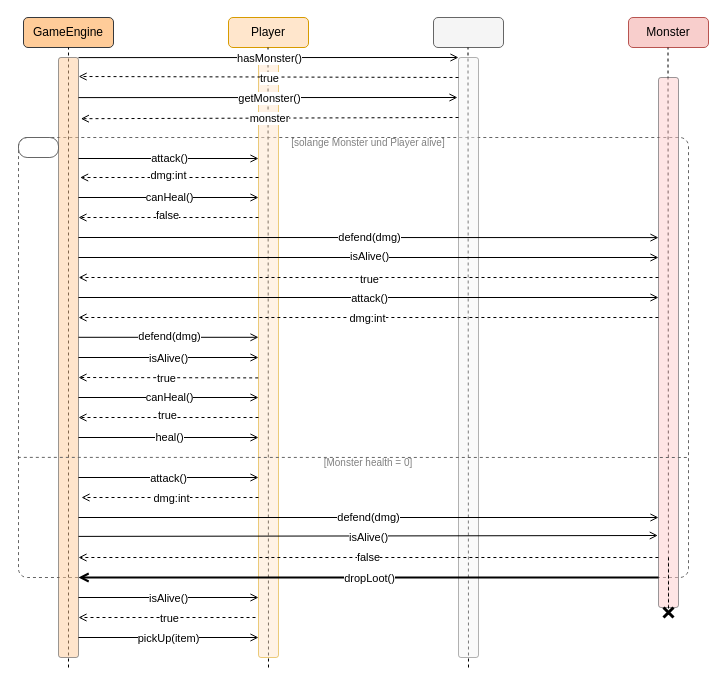
Image size: 726x686. Some labels were removed from this diagram. The centre of each missing label's shape, as x and y in pixels:
loop: the point at 38,147
Room: the point at 468,32
